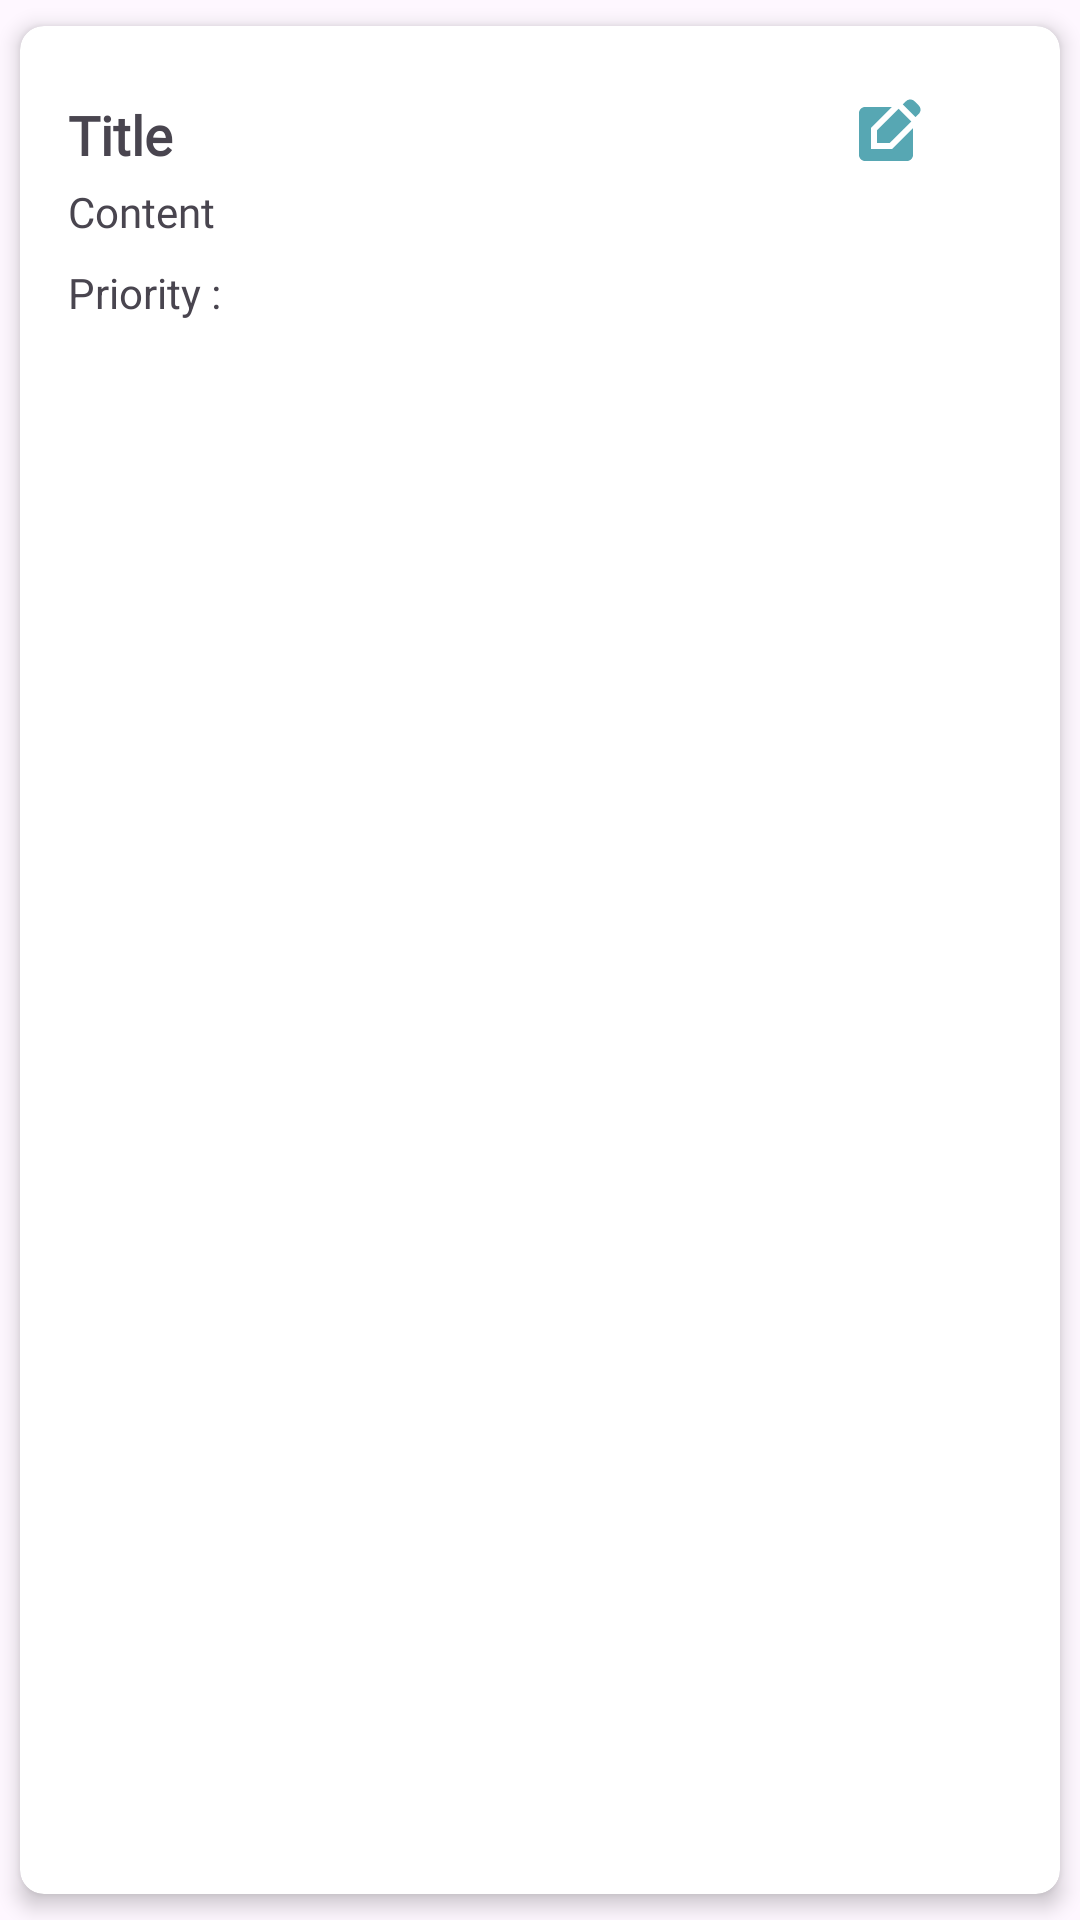

Icons on this 1080*1920 Android screen, each with its box as [x1=x1, y1=y1, x2=x2, y2=y2]:
edit square: [x1=859, y1=99, x2=921, y2=161]
